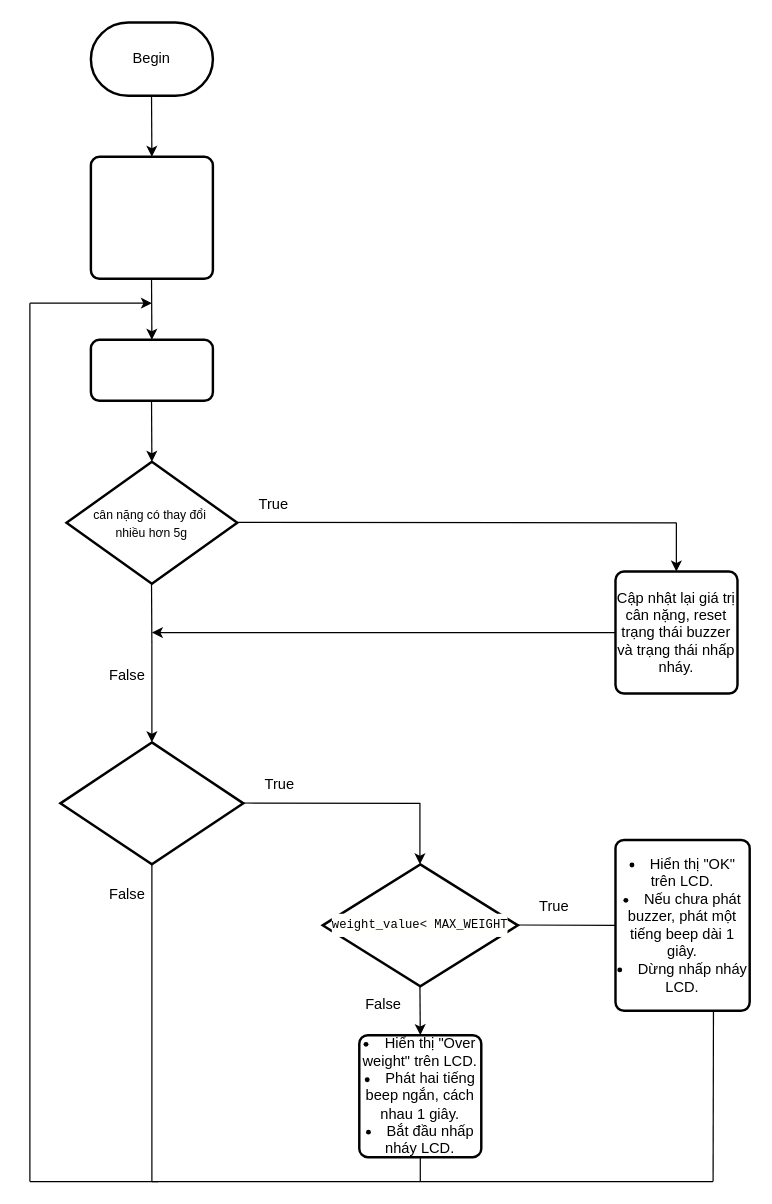
This 772x1204 diagram has some shape labels left out. Here are the shapes that lost their labels. From the top down, the centre of each, then its label:
the point at 151,217: khởi tạo phần cứng (I2C LCD, load cell, buzzer.)
the point at 151,369: Đọc cân nặng từ loadcell
the point at 151,803: Kiểm tra cân nặng đã ổn định hơn 1 giây
